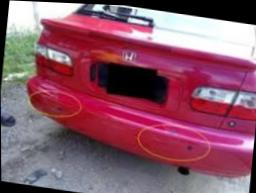Bumper: (44, 98, 71, 119), (181, 138, 199, 156)
